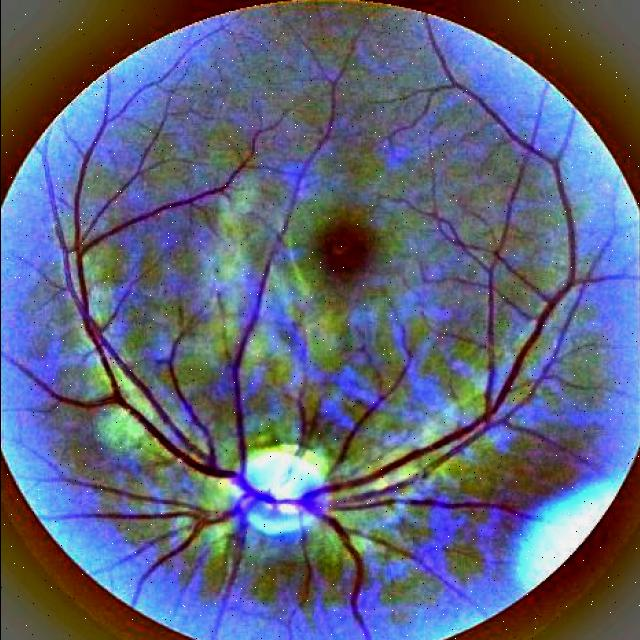Macula: (320, 222, 368, 275)
Optic Disk: (235, 478, 325, 532), (243, 445, 325, 501)
